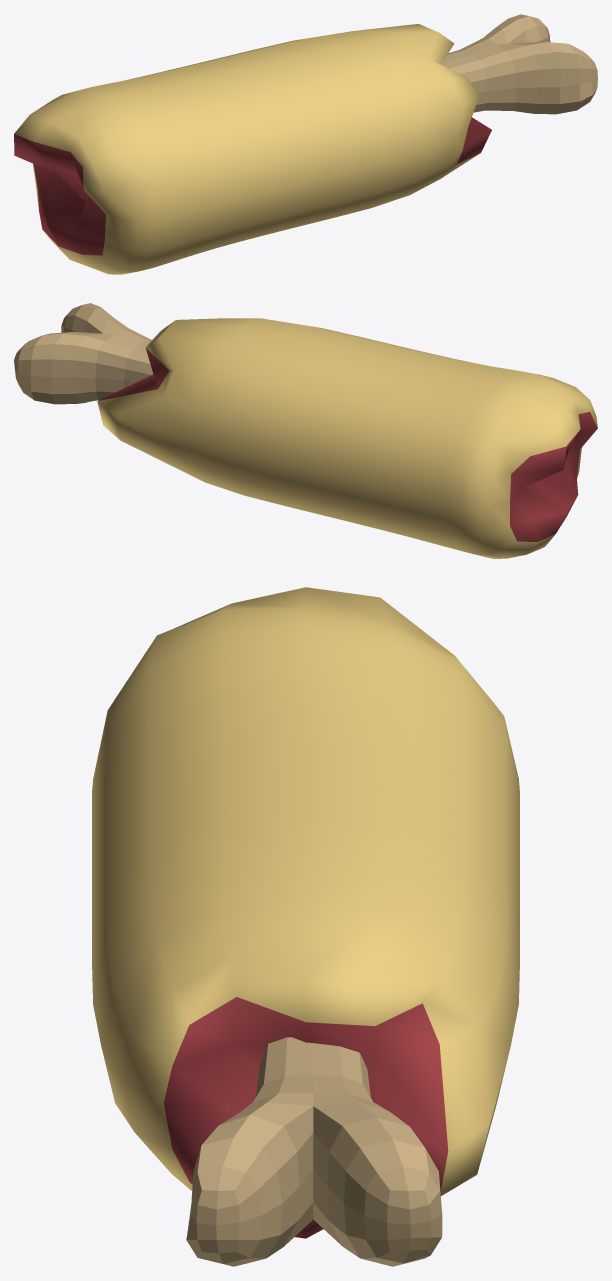
File: LowerArm_Dism_2.fbx
The picture shows the model from 3 angles, top to bottom: view 1: azimuth 30°, elevation 25°; view 2: azimuth 150°, elevation 25°; view 3: azimuth 270°, elevation 25°; orthographic projection. The views are drawn at different scales.
Parts seen in each view (by area): view 1: LowerArm_L.002; view 2: LowerArm_L.002; view 3: LowerArm_L.002.
Part boxes in pixels (x1,y1,x2,y2): LowerArm_L.002: (14, 14, 597, 274); LowerArm_L.002: (14, 303, 597, 558); LowerArm_L.002: (92, 587, 519, 1266).
Size of the model in its own units: 107 by 30.98 by 36.5.
